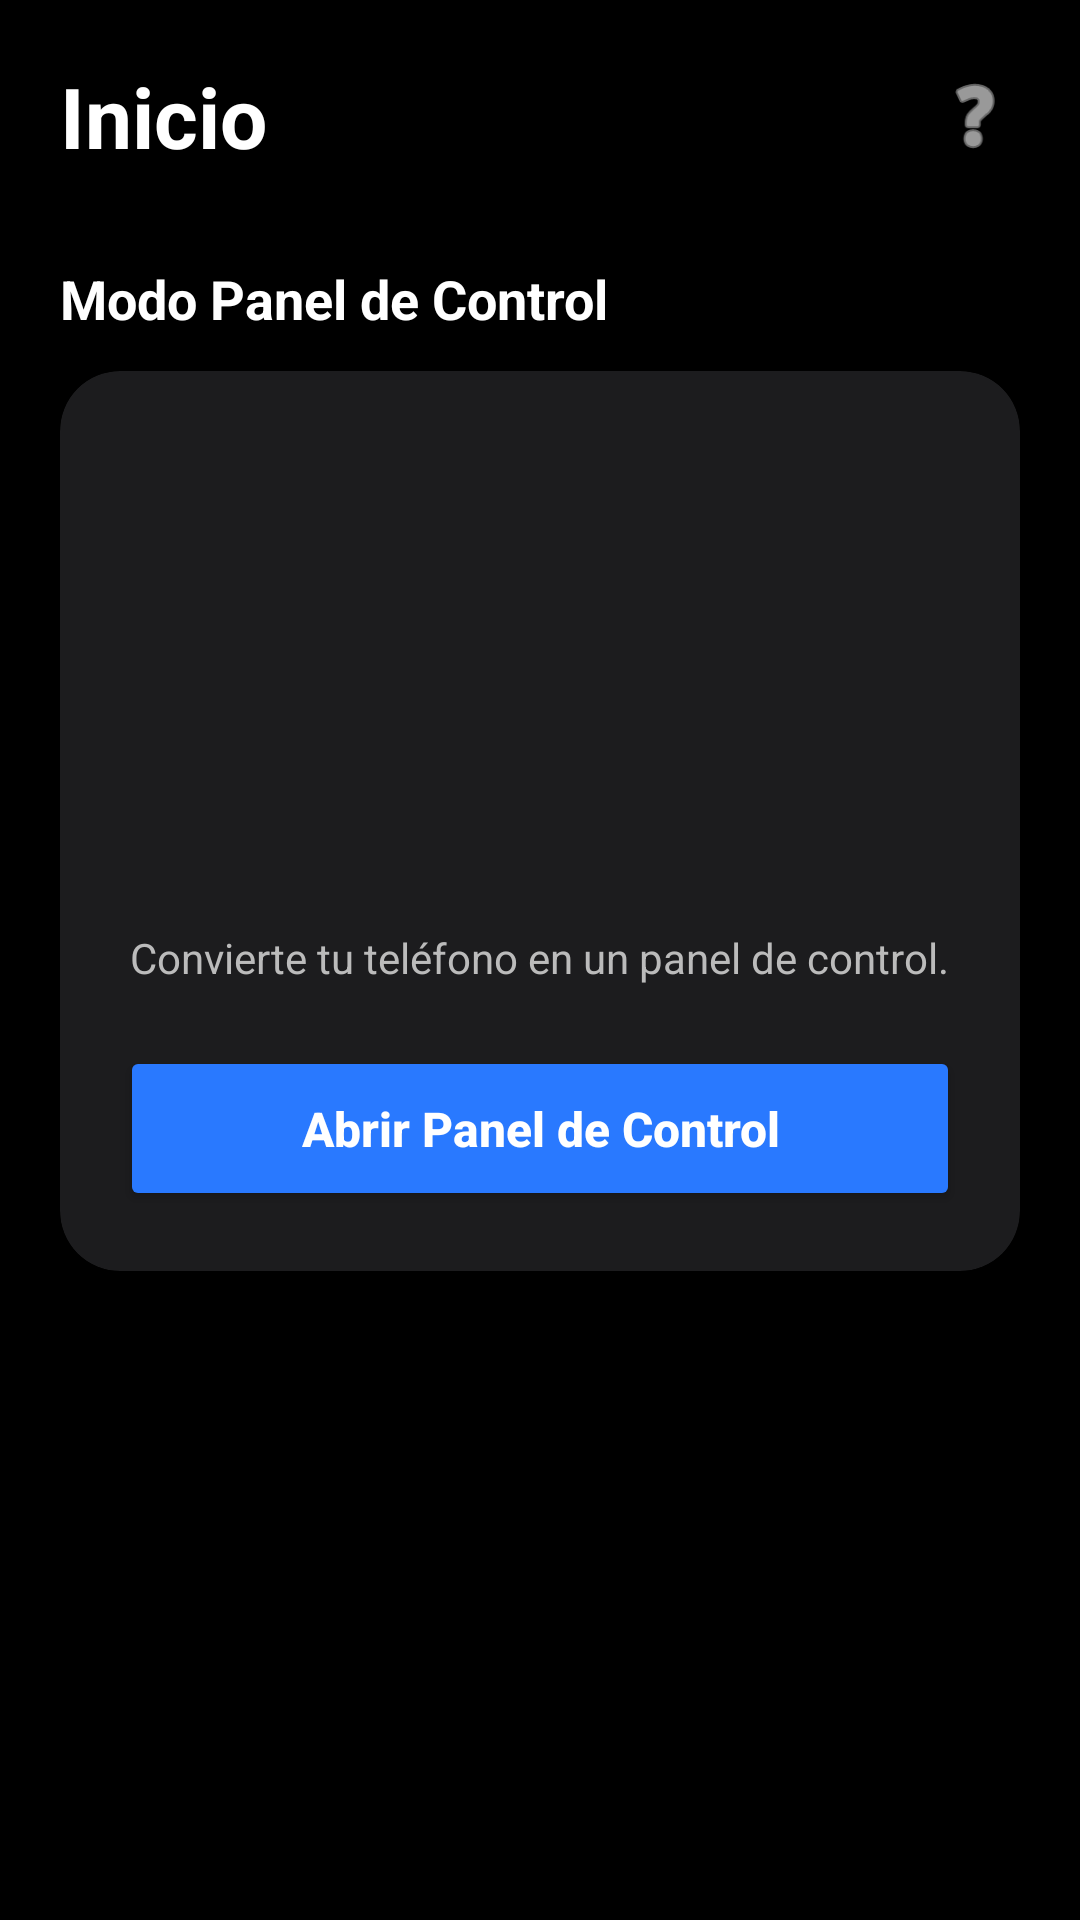

Screen size 1080 × 1920. Icon name, then its center in pixels as point (x, y):
help: point (975, 116)
